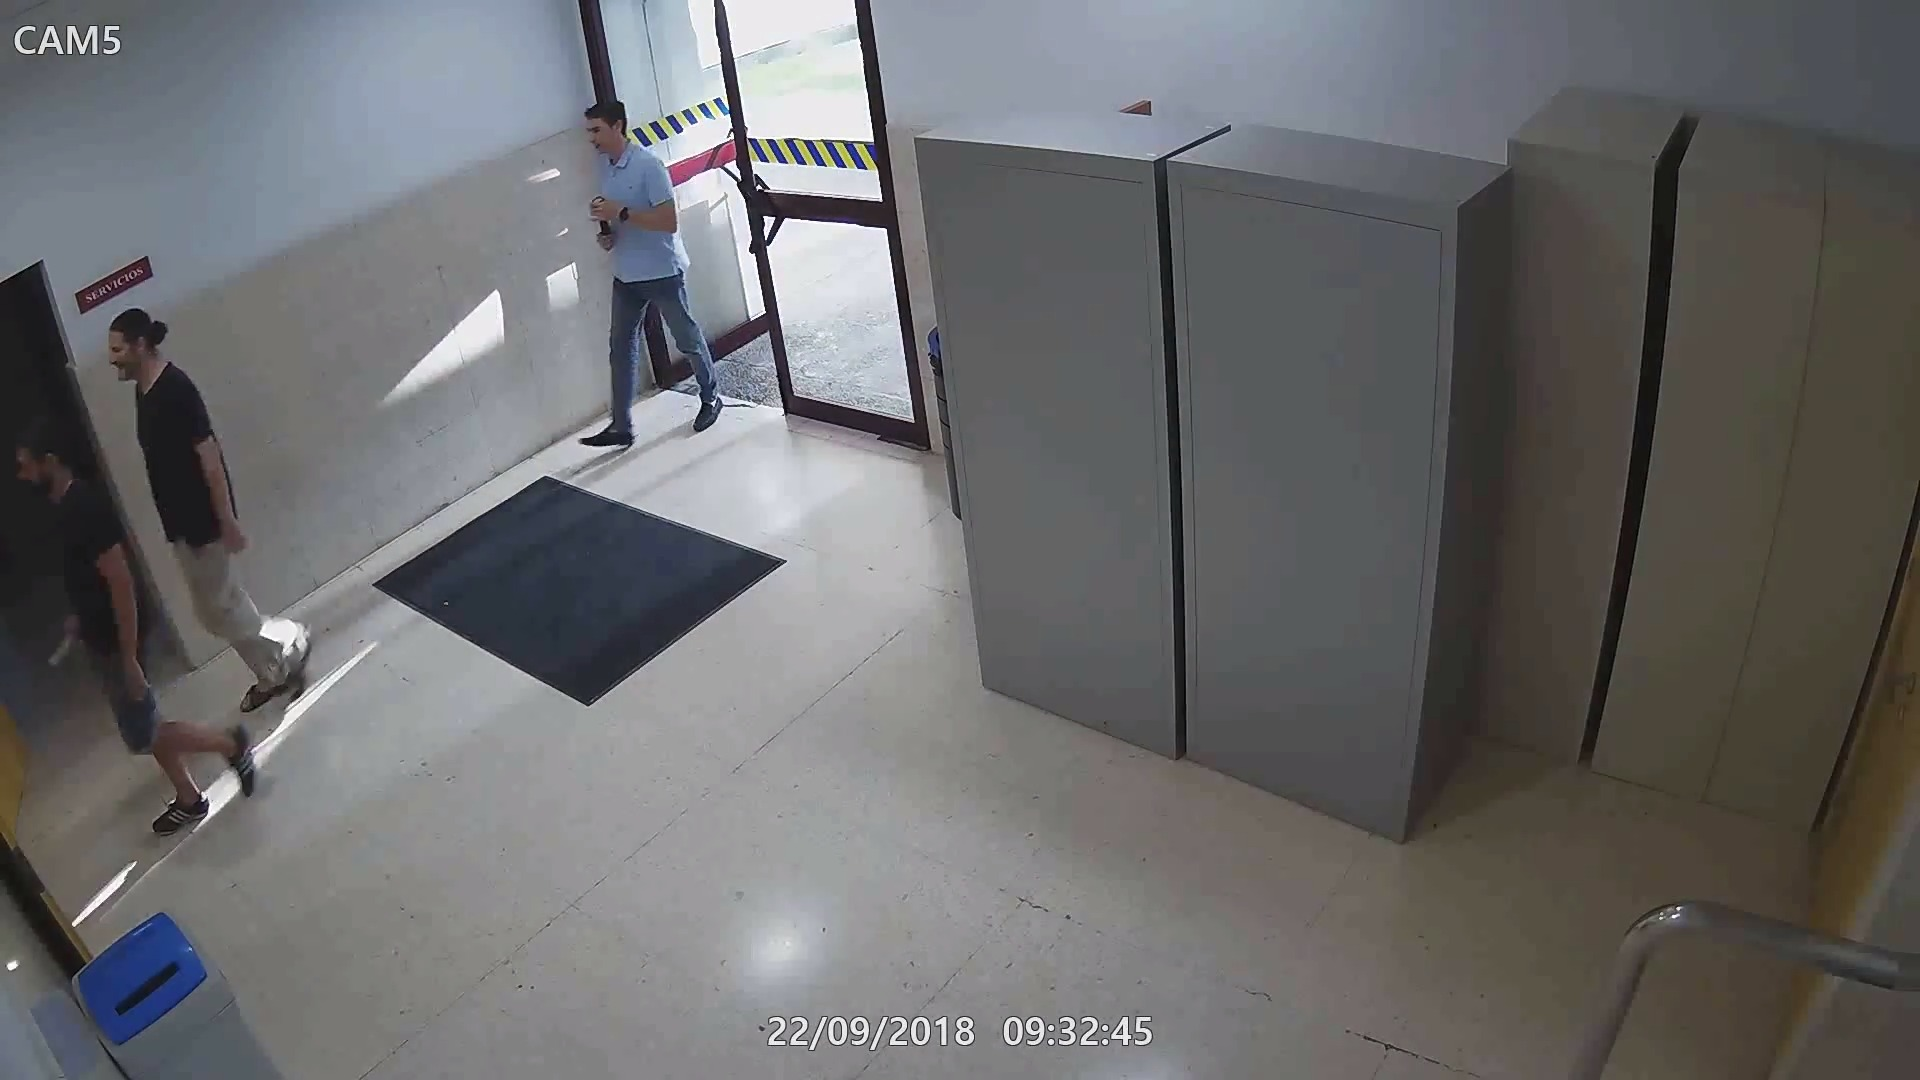pistol: (42, 632, 80, 669)
